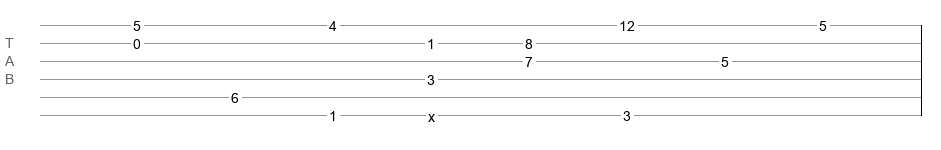0: (133, 36, 141, 46)
1: (329, 108, 337, 118), (427, 36, 435, 46)
12: (619, 18, 635, 28)
3: (427, 72, 435, 82), (623, 108, 631, 118)
4: (329, 18, 337, 28)
5: (133, 18, 141, 28), (721, 54, 729, 64), (819, 18, 827, 28)
6: (231, 90, 239, 100)
7: (525, 54, 533, 64)
8: (525, 36, 533, 46)
x: (428, 109, 435, 117)
